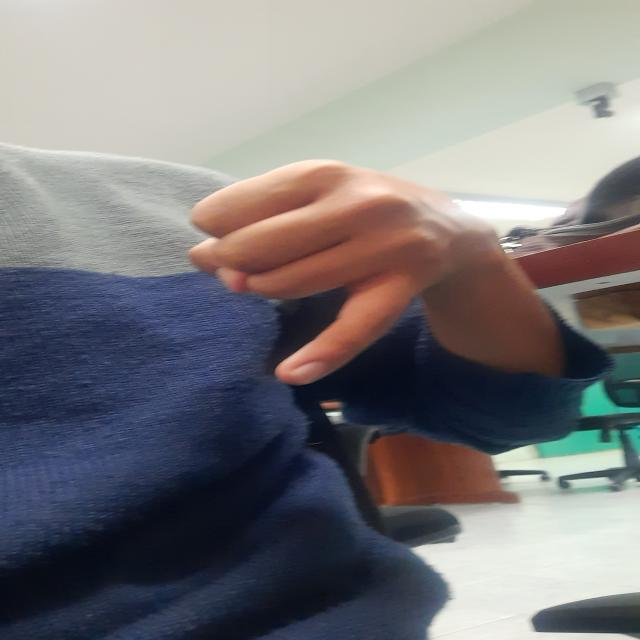J: (181, 155, 474, 388)
